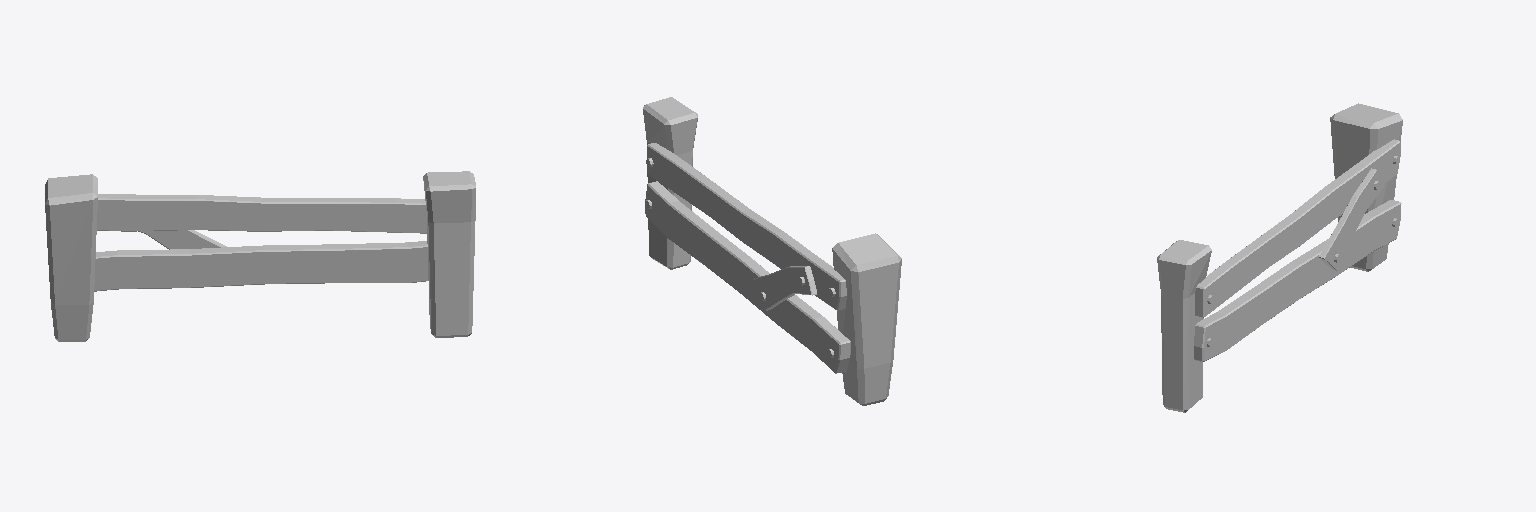
File: fencePrison.obj
3 renders of one model, left to right at view 1: azimuth 30°, elevation 25°; view 2: azimuth 150°, elevation 25°; view 3: azimuth 270°, elevation 25°, orthographic.
Parts seen in each view (by area): view 1: prisonFence; view 2: prisonFence; view 3: prisonFence.
Boxes of the visible parts, <box> form: prisonFence: <box>45,171,475,341</box>; prisonFence: <box>643,97,901,405</box>; prisonFence: <box>1157,103,1402,412</box>.
Size of the model in its own units: 8.12 by 3.51 by 5.07.